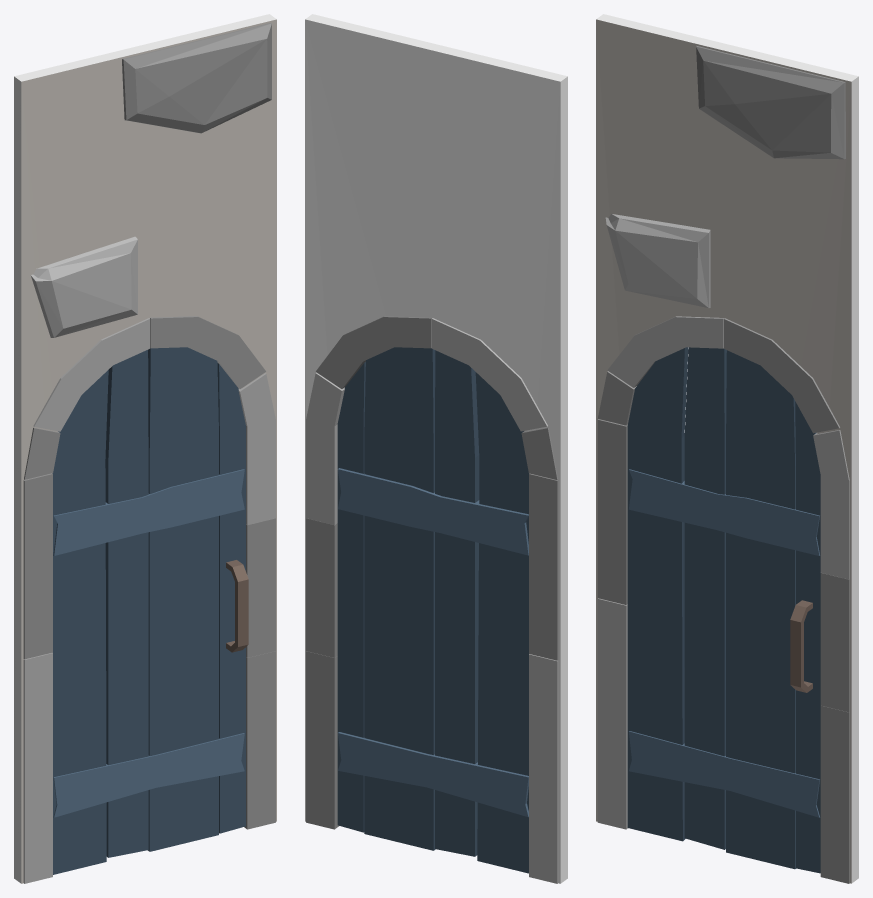
File: _DOOR_02_1.fbx
The picture shows the model from 3 angles, left to right: view 1: azimuth 30°, elevation 25°; view 2: azimuth 150°, elevation 25°; view 3: azimuth 330°, elevation 25°; orthographic projection.
Visible parts, largest first — view 1: DOOR_02_1; view 2: DOOR_02_1; view 3: DOOR_02_1.
Boxes of the visible parts, x1,y1,x2,y2 form: DOOR_02_1: (14,14,276,883); DOOR_02_1: (305,14,567,883); DOOR_02_1: (596,14,858,883).
Bounding box in the file's own units: 100 × 300 × 13.1.
